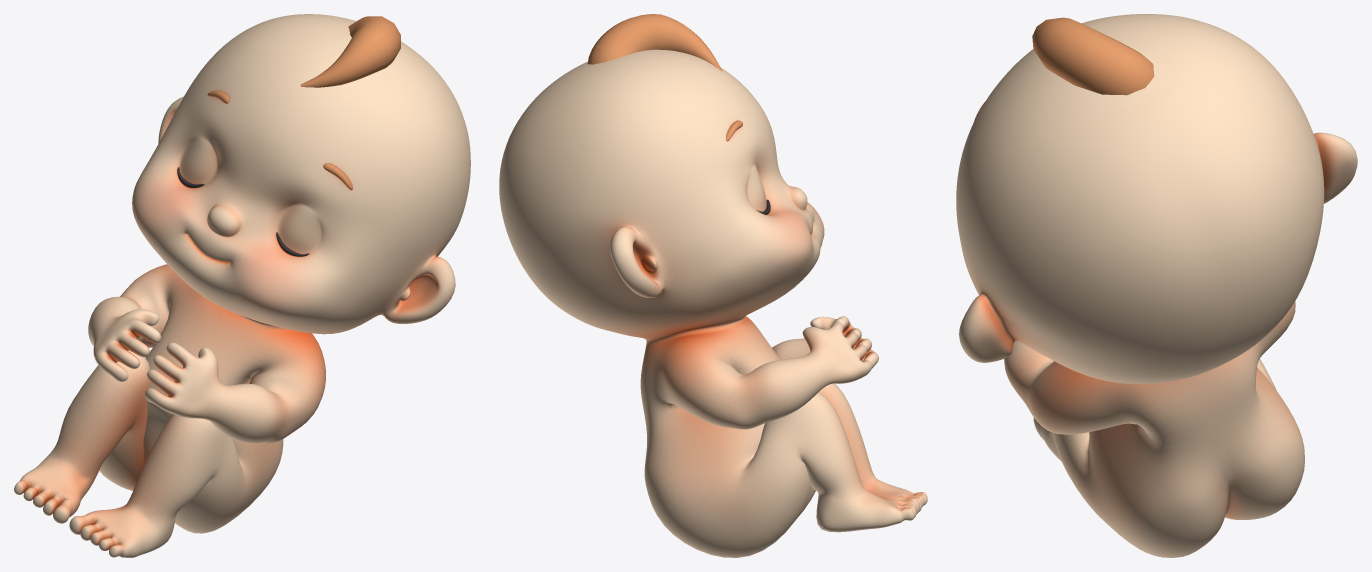
The picture shows the model from 3 angles, left to right: view 1: azimuth 30°, elevation 25°; view 2: azimuth 150°, elevation 25°; view 3: azimuth 270°, elevation 25°; orthographic projection. The views are drawn at different scales.
Parts seen in each view (by area): view 1: Roundcube.007, BézierCurve; view 2: Roundcube.007, BézierCurve; view 3: Roundcube.007, BézierCurve.
Boxes of the visible parts, x1,y1,x2,y2 form: Roundcube.007: (14, 14, 470, 557); BézierCurve: (300, 16, 400, 87); Roundcube.007: (499, 49, 927, 557); BézierCurve: (587, 14, 722, 71); Roundcube.007: (956, 14, 1357, 557); BézierCurve: (1032, 17, 1154, 95).
Bounding box in the file's own units: 4.04 × 4.47 × 2.7.
Materials: 1 (1 with a texture image).
